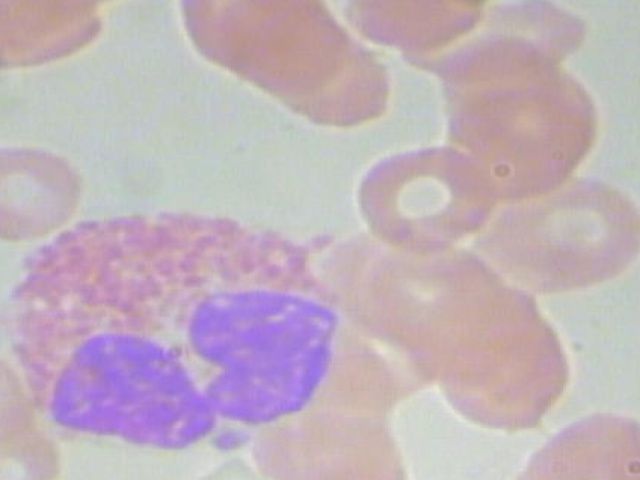RBC: (475, 171, 640, 291), (340, 145, 505, 251), (0, 141, 100, 247), (0, 395, 74, 480), (0, 341, 40, 447), (634, 241, 640, 347), (635, 354, 640, 480), (639, 351, 640, 480)
WBC: (0, 203, 351, 457)
